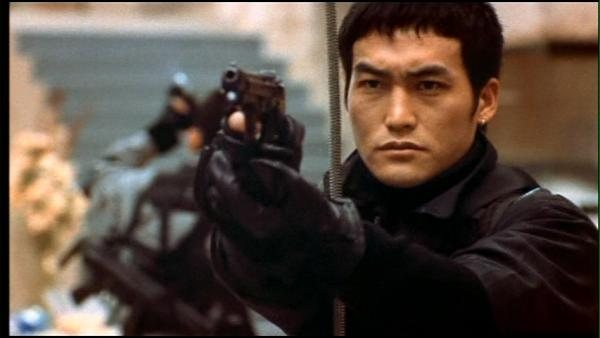Gun: (222, 62, 289, 120)
